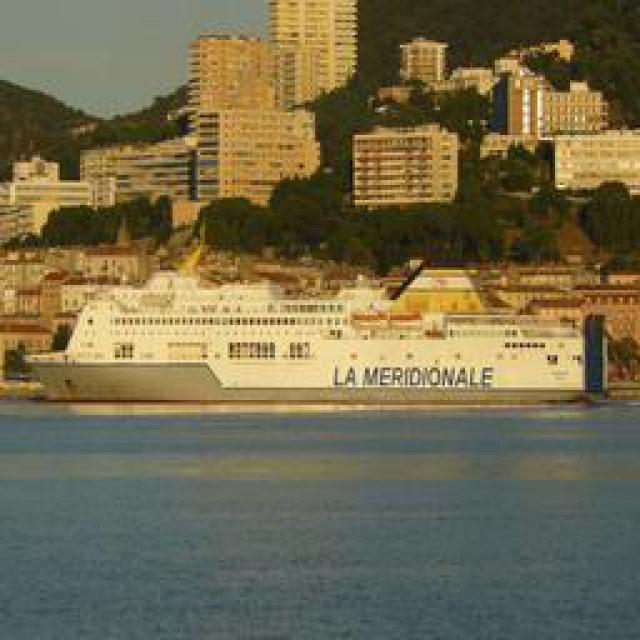Ship: (39, 300, 592, 405)
